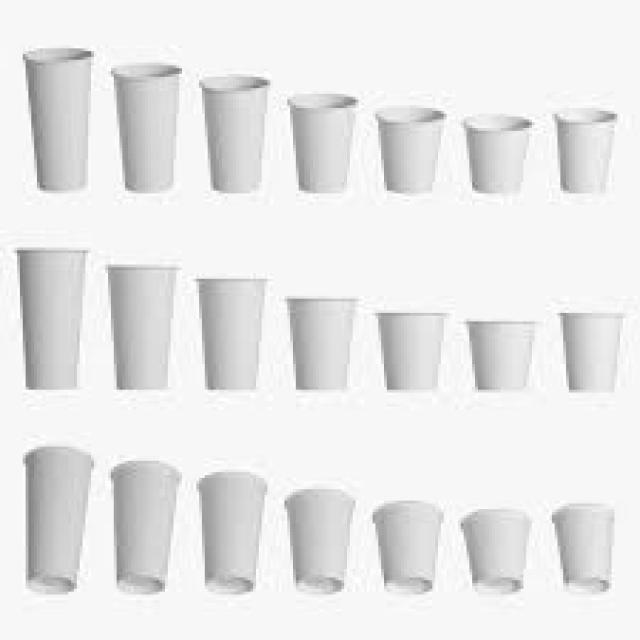styrofoam: (25, 448, 92, 591), (111, 461, 180, 592), (29, 51, 92, 189), (22, 250, 85, 388), (199, 471, 266, 592), (117, 66, 181, 192), (109, 268, 174, 389), (198, 279, 266, 389), (285, 489, 355, 592), (208, 79, 268, 191), (372, 501, 441, 592), (374, 306, 449, 389), (291, 298, 359, 389), (291, 99, 356, 191), (461, 510, 530, 592), (552, 505, 614, 591), (381, 110, 444, 192), (561, 310, 621, 391), (468, 321, 536, 389), (468, 119, 531, 191), (556, 112, 611, 192)
